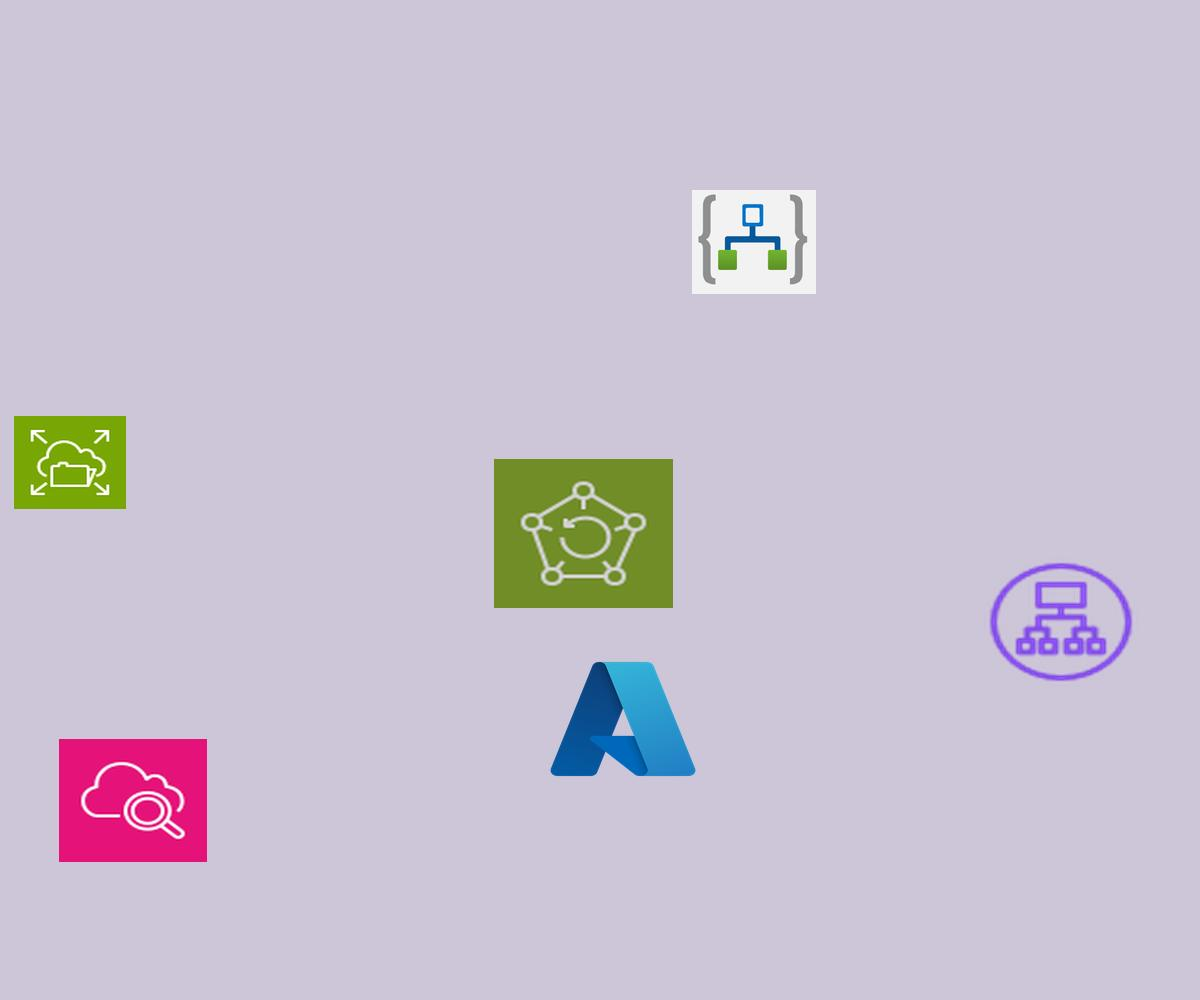AWS-Backup: (494, 459, 673, 608)
AWS-CloudWatch: (59, 739, 207, 862)
AWS-EFS: (14, 416, 126, 509)
AWS-Res_Elastic-Load-Balancing_Application-Load-Balancer: (984, 558, 1138, 686)
Azure_integration-204-Logic-Apps: (692, 190, 816, 294)
Azure_services: (544, 653, 702, 785)
